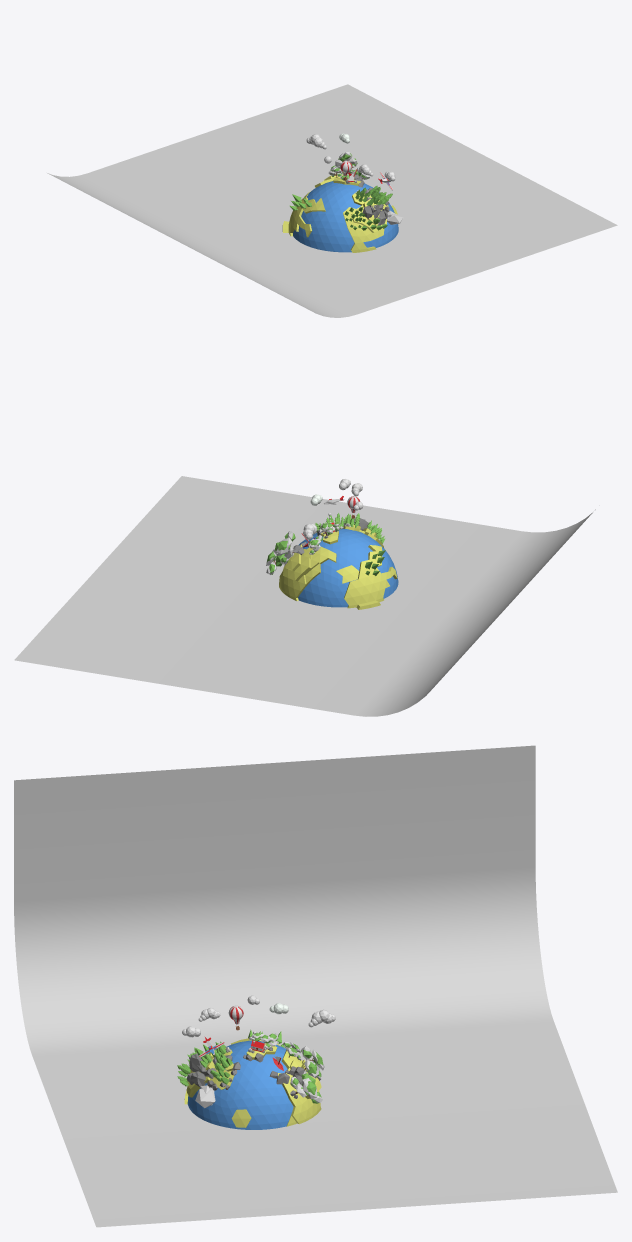
Rendered from website.glb.
The picture shows the model from 3 angles, top to bottom: view 1: azimuth 30°, elevation 25°; view 2: azimuth 150°, elevation 25°; view 3: azimuth 270°, elevation 25°; orthographic projection. The views are drawn at different scales.
Visible parts, largest first — view 1: Plane.047, Icosphere.001, Icosphere; view 2: Plane.047, Icosphere, Icosphere.001; view 3: Plane.047, Icosphere.001, Icosphere.
Boxes of the visible parts, x1,y1,x2,y2 form: Plane.047: [47, 84, 617, 317]; Icosphere.001: [293, 181, 398, 252]; Icosphere: [282, 174, 397, 252]; Plane.047: [14, 476, 595, 716]; Icosphere: [279, 524, 397, 609]; Icosphere.001: [298, 528, 398, 607]; Plane.047: [14, 745, 617, 1227]; Icosphere.001: [187, 1040, 293, 1129]; Icosphere: [184, 1038, 321, 1127].
Bounding box in the file's own units: 65.92 × 35.42 × 65.92.
